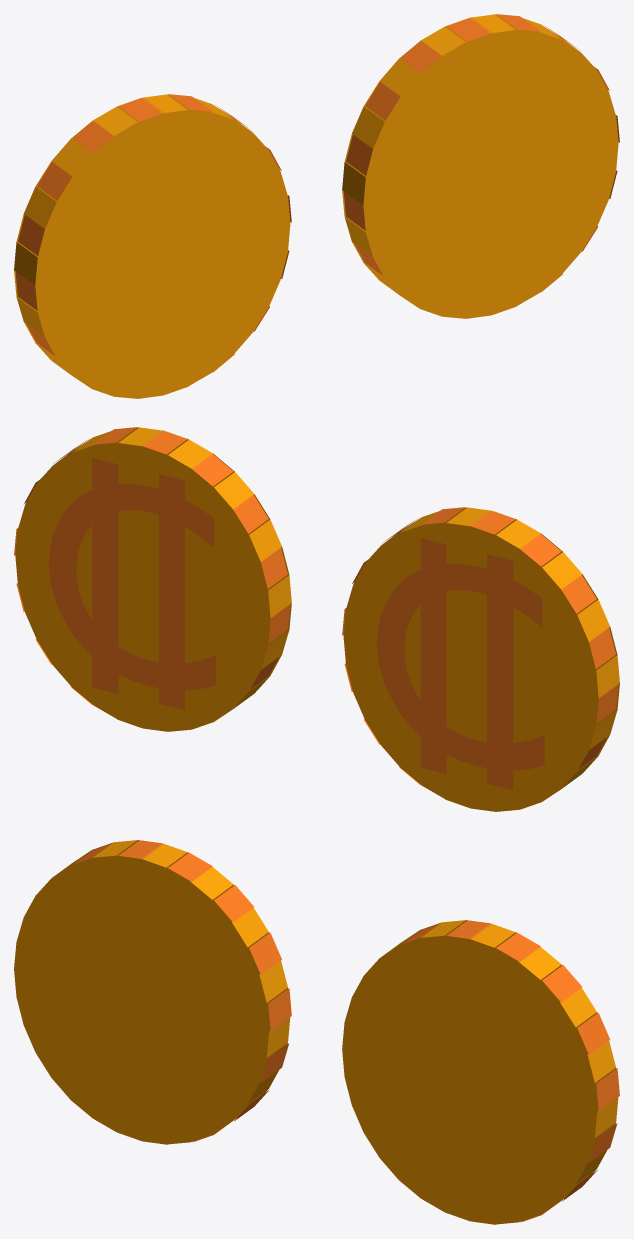
Rendered from CoinEyes.fbx.
3 views of the same model, one above another, from view 1: azimuth 30°, elevation 25°; view 2: azimuth 150°, elevation 25°; view 3: azimuth 330°, elevation 25° (orthographic).
Visible parts, largest first — view 1: money eyes.001; view 2: money eyes.001; view 3: money eyes.001.
Part boxes in pixels (box(x1,y1,x2,y2)): money eyes.001: box(14, 14, 619, 398); money eyes.001: box(14, 427, 619, 811); money eyes.001: box(14, 840, 619, 1224).
Bounding box in the file's own units: 70.79 × 32.65 × 5.02.
